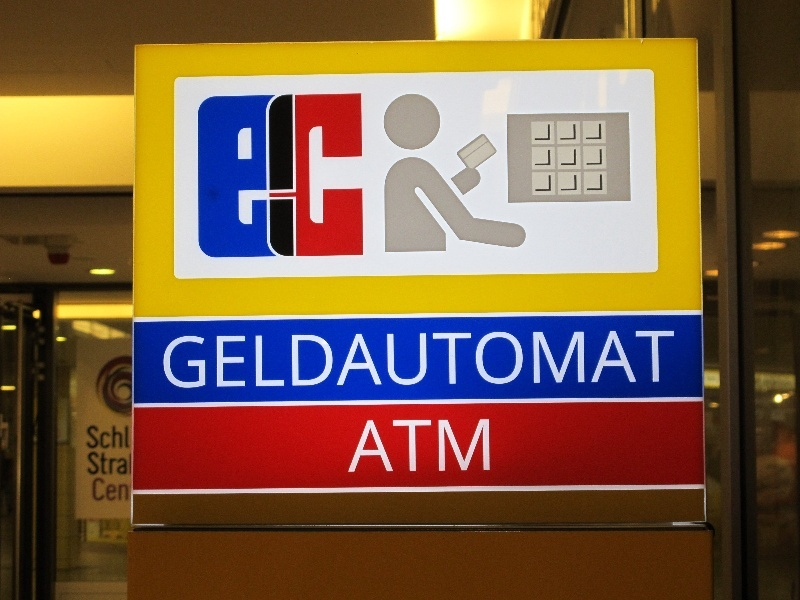text: (209, 93, 224, 259), (225, 93, 240, 259), (241, 93, 256, 259), (257, 93, 272, 259), (273, 93, 288, 259), (289, 93, 304, 259), (305, 93, 320, 259), (321, 93, 336, 259), (337, 93, 352, 259), (353, 93, 365, 259), (198, 93, 208, 259), (177, 329, 192, 391), (193, 329, 208, 391), (209, 329, 224, 391), (225, 329, 240, 391), (241, 329, 256, 391), (257, 329, 272, 391), (273, 329, 288, 391), (289, 329, 304, 391), (305, 329, 320, 391), (321, 329, 336, 391), (337, 329, 352, 391), (353, 329, 368, 391), (369, 329, 384, 391), (385, 329, 400, 391), (401, 329, 416, 391), (417, 329, 432, 391), (433, 329, 448, 391), (449, 329, 464, 391), (465, 329, 480, 391), (481, 329, 496, 391), (497, 329, 512, 391), (513, 329, 528, 391), (529, 329, 544, 391), (545, 329, 560, 391), (561, 329, 576, 391), (577, 329, 592, 391), (593, 329, 608, 391), (609, 329, 624, 391), (625, 329, 640, 391), (641, 329, 656, 391), (657, 329, 672, 391), (385, 420, 400, 474), (401, 420, 416, 474), (417, 420, 432, 474), (433, 420, 448, 474), (449, 420, 464, 474), (465, 420, 480, 474), (370, 420, 384, 474), (164, 329, 176, 391), (481, 420, 490, 474), (113, 477, 129, 503), (97, 450, 112, 477), (113, 450, 128, 477), (97, 477, 112, 503), (97, 424, 112, 450), (113, 424, 128, 450), (673, 329, 678, 391), (86, 424, 96, 450), (87, 450, 96, 477), (92, 477, 96, 503), (129, 424, 131, 450)
